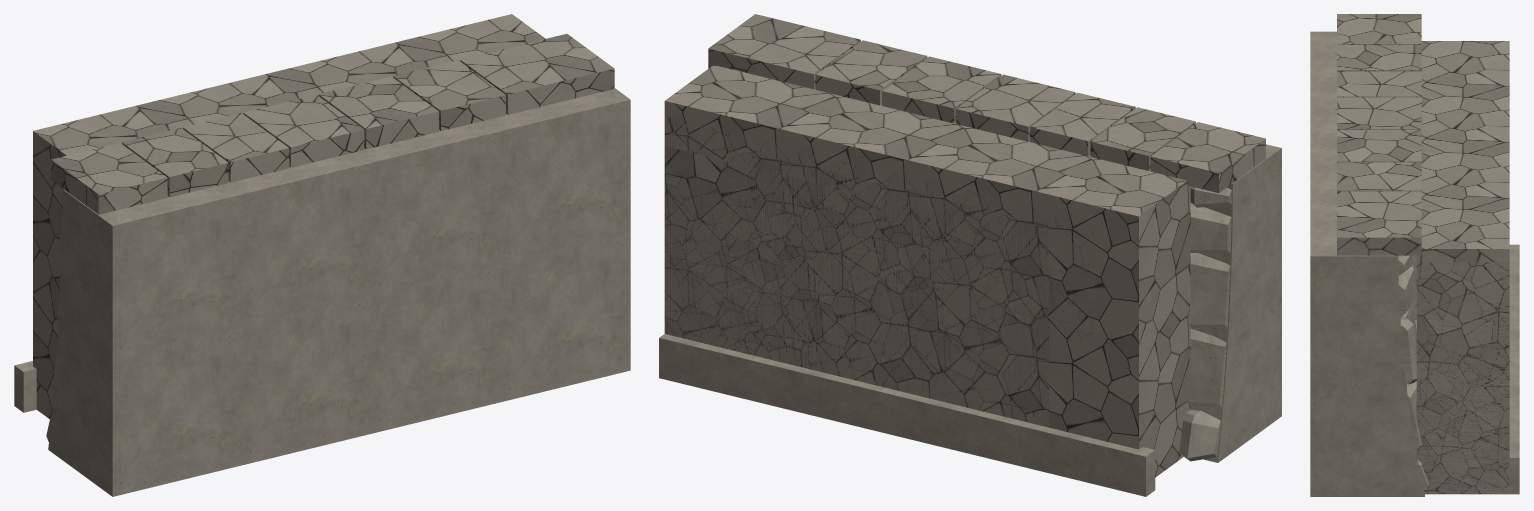
The model's file is HO_Harbour_Quay_Steps_16.fbx.
The picture shows the model from 3 angles, left to right: view 1: azimuth 30°, elevation 25°; view 2: azimuth 150°, elevation 25°; view 3: azimuth 270°, elevation 25°; orthographic projection. The views are drawn at different scales.
Parts seen in each view (by area): view 1: HO_Harbour_Quay_Steps_16__Stone_Granite, HO_Harbour_Quay_Steps_16__Stone_Fitted; view 2: HO_Harbour_Quay_Steps_16__Stone_Fitted, HO_Harbour_Quay_Steps_16__Stone_Granite; view 3: HO_Harbour_Quay_Steps_16__Stone_Fitted, HO_Harbour_Quay_Steps_16__Stone_Granite.
Boxes of the visible parts, x1,y1,x2,y2 form: HO_Harbour_Quay_Steps_16__Stone_Granite: (14,88,630,496); HO_Harbour_Quay_Steps_16__Stone_Fitted: (33,14,614,418); HO_Harbour_Quay_Steps_16__Stone_Fitted: (664,14,1265,477); HO_Harbour_Quay_Steps_16__Stone_Granite: (659,144,1281,496); HO_Harbour_Quay_Steps_16__Stone_Fitted: (1337,14,1509,494); HO_Harbour_Quay_Steps_16__Stone_Granite: (1310,31,1519,496).
Size of the model in its own units: 16 by 8.6 by 6.3.
